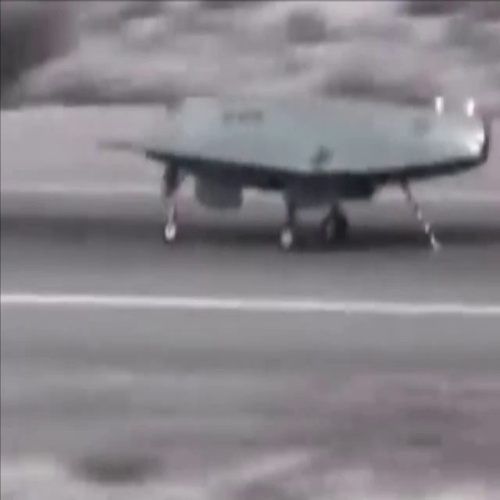uav: (88, 85, 489, 261)
